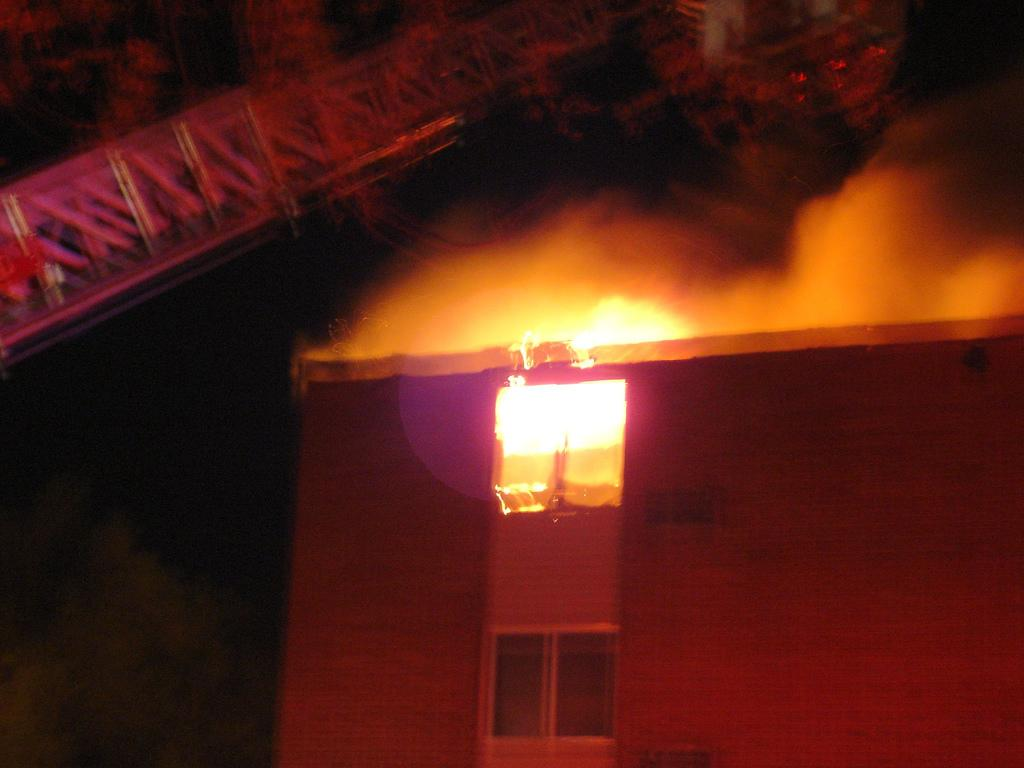fire: (500, 388, 626, 446), (586, 306, 670, 336)
